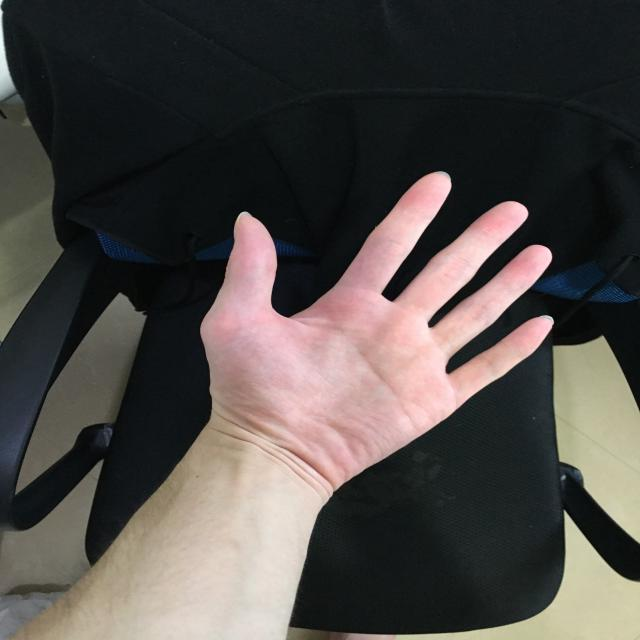hand: (158, 152, 578, 518)
